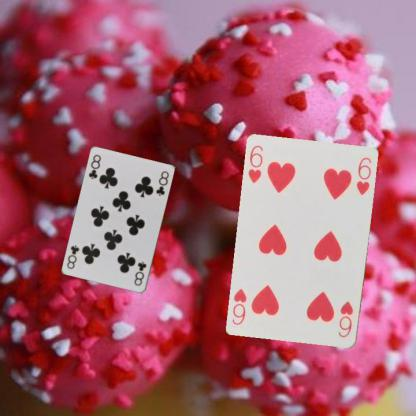6h: (246, 143, 264, 185), (336, 299, 354, 339)
8c: (86, 152, 102, 181), (132, 259, 148, 287)
